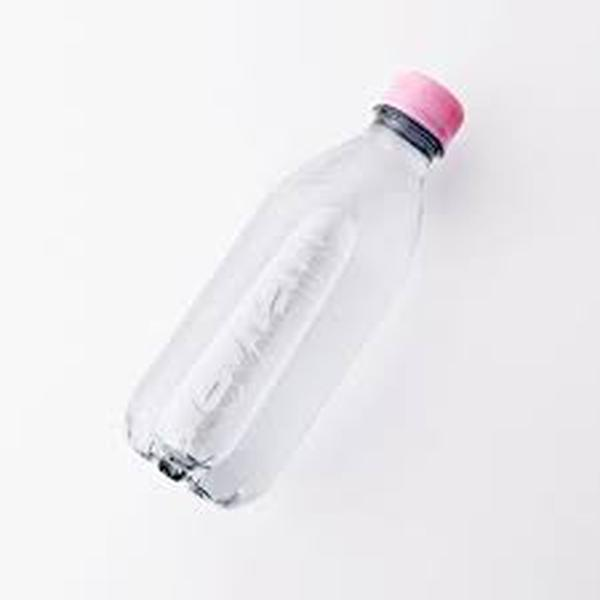tutuma: (114, 56, 469, 516)
